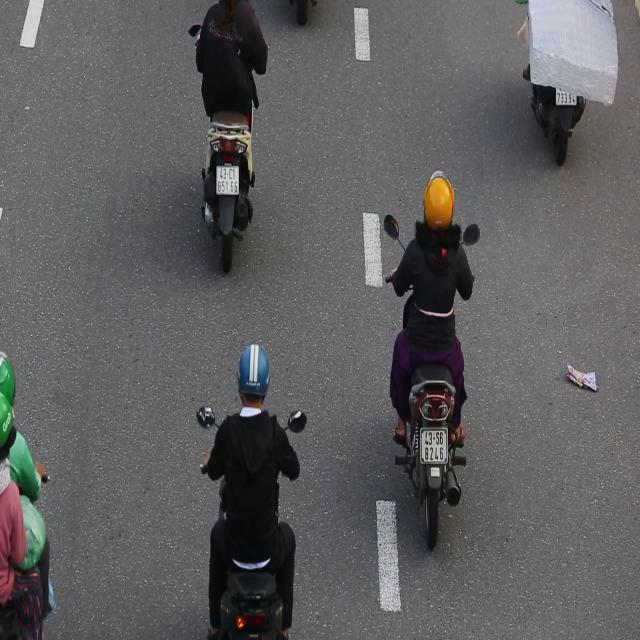motorbike: (377, 165, 483, 553)
